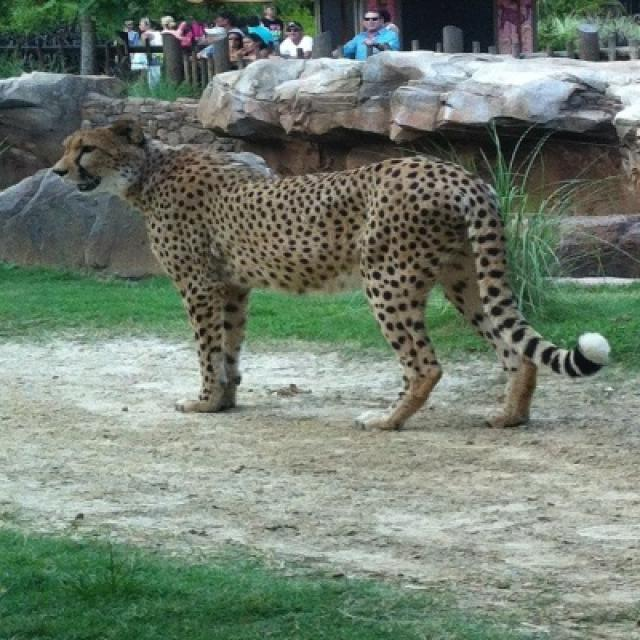Cheetah: (50, 118, 606, 430)
